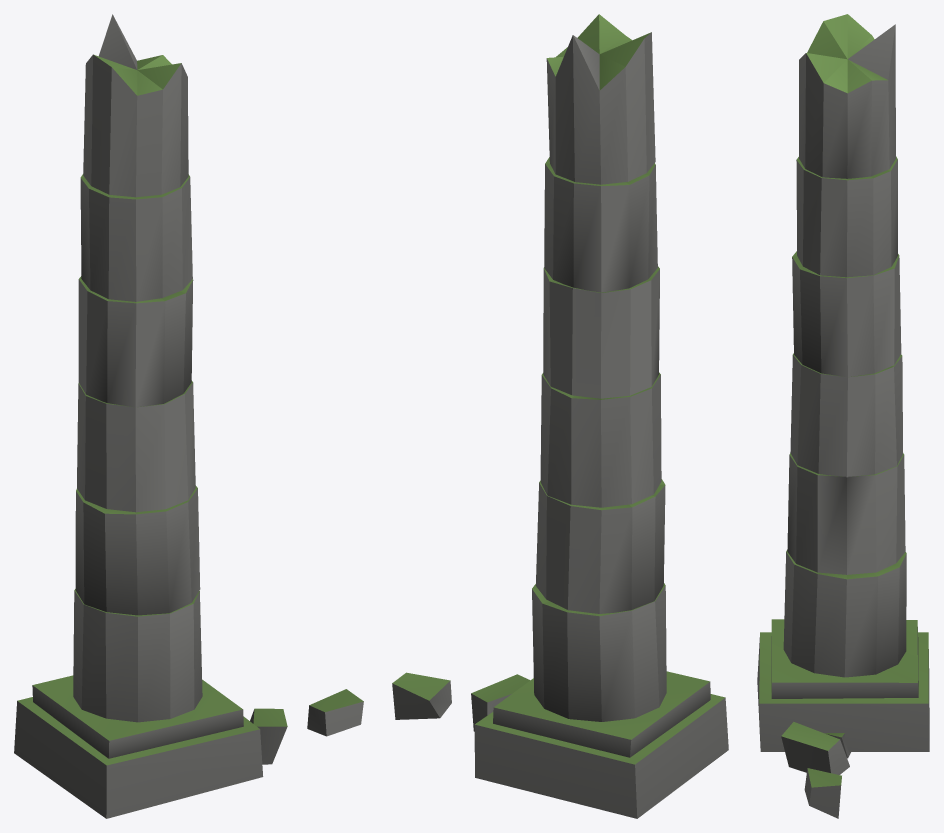
File: obj_columna_3.glb
The picture shows the model from 3 angles, left to right: view 1: azimuth 30°, elevation 25°; view 2: azimuth 150°, elevation 25°; view 3: azimuth 270°, elevation 25°; orthographic projection. The views are drawn at different scales.
Parts seen in each view (by area): view 1: propforge-libre-columna; view 2: propforge-libre-columna; view 3: propforge-libre-columna.
Part boxes in pixels (x1,y1,x2,y2): propforge-libre-columna: (14,14,363,818); propforge-libre-columna: (392,14,728,818); propforge-libre-columna: (757,14,929,818).
Bounding box in the file's own units: 0.6376 × 1.57 × 0.3495.
